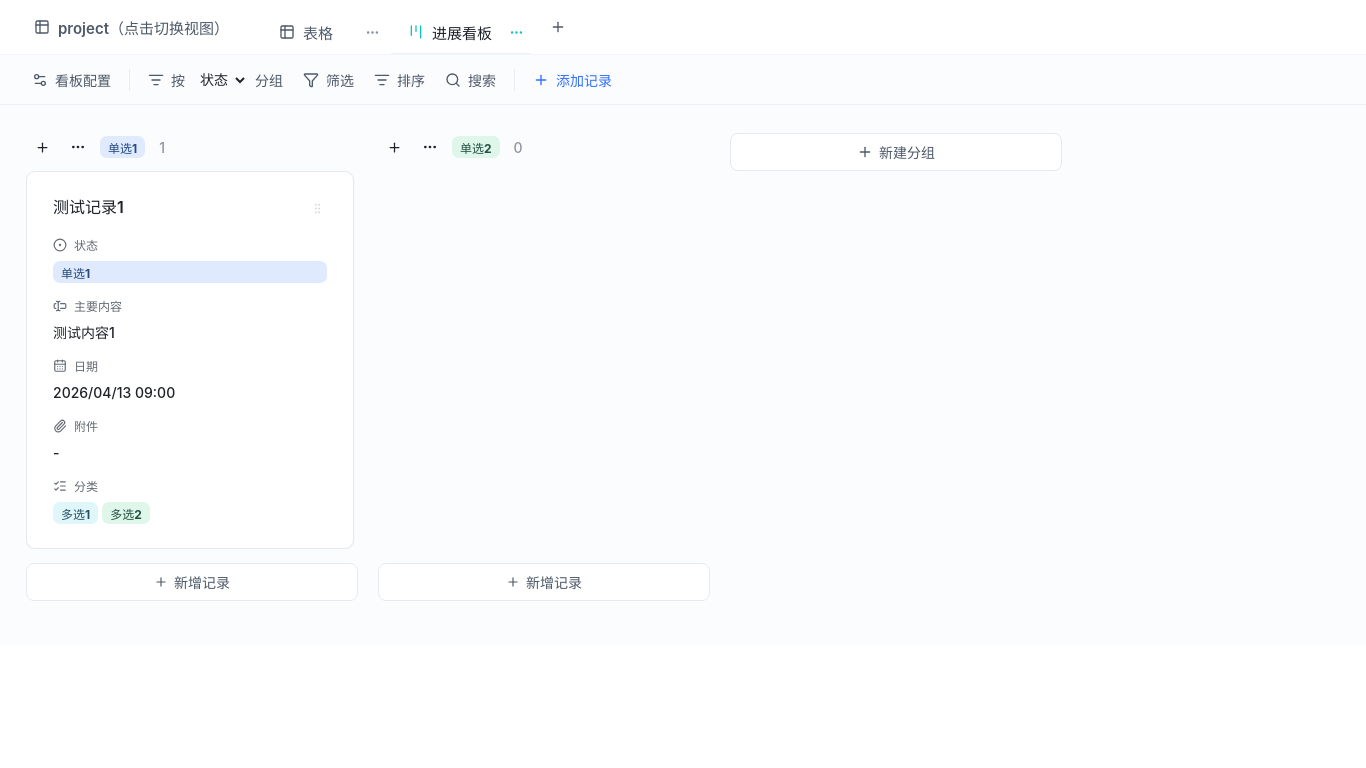
Test: 视图页签支持重命名和删除多余看板
Click the button named "新增看板" at (558, 27), box [539,7,577,47]
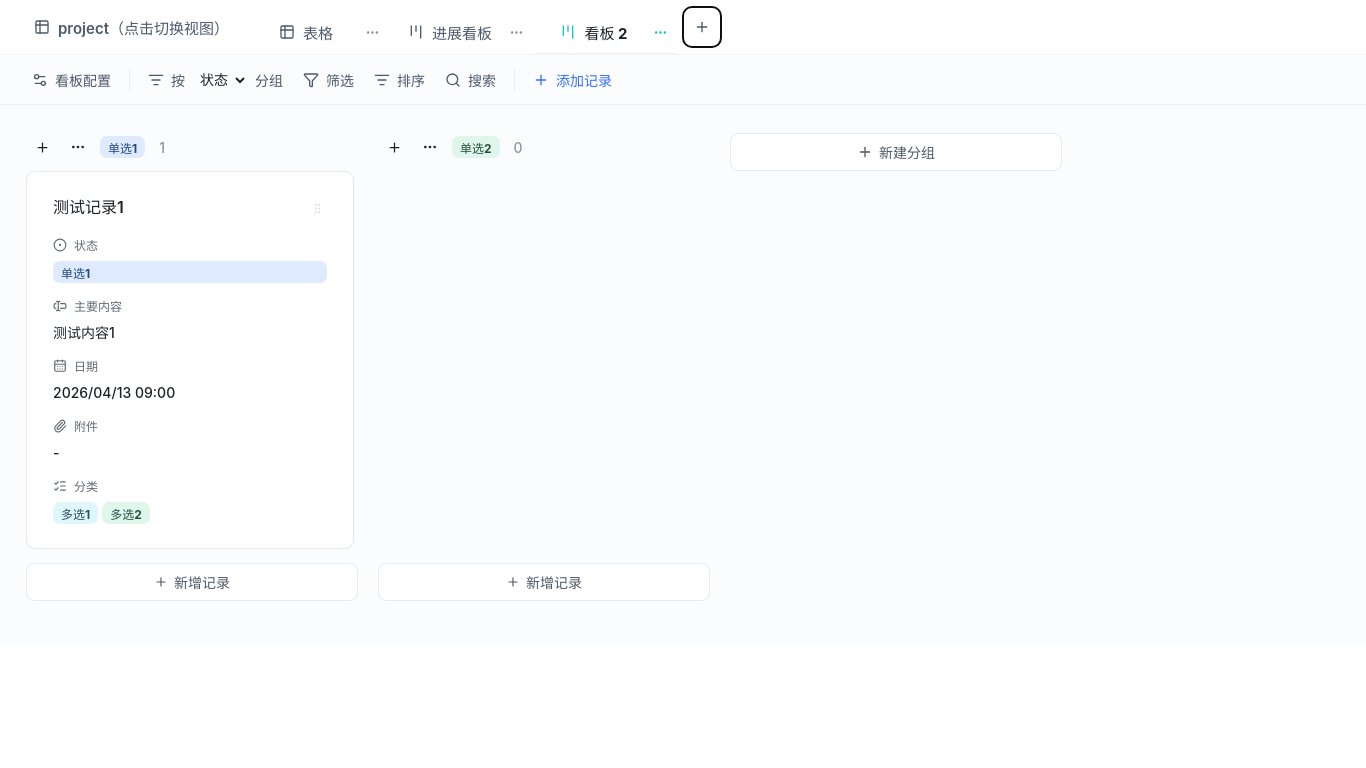
Click the button named "看板 2 视图操作" at (661, 32), box [647,10,675,54]
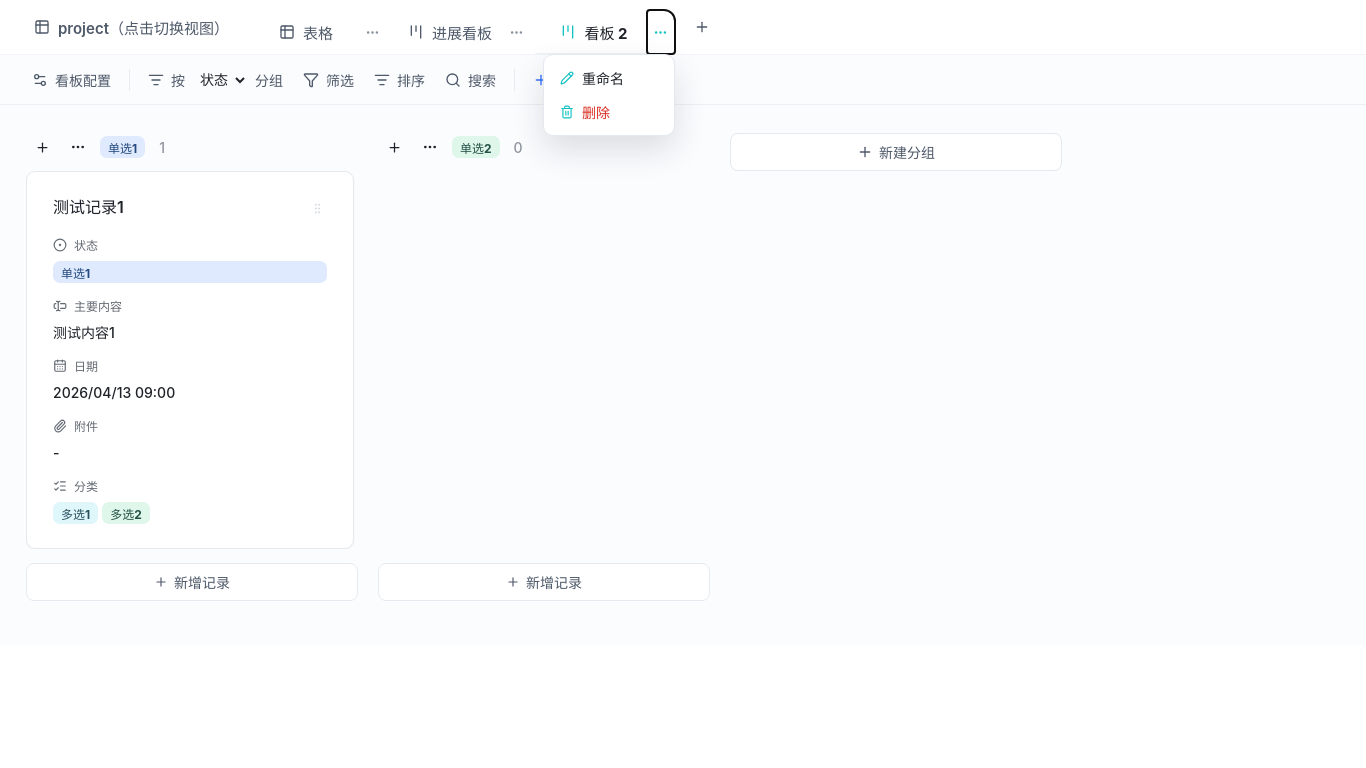
Click the menu item "重命名" at (609, 78), box [550,61,668,95]
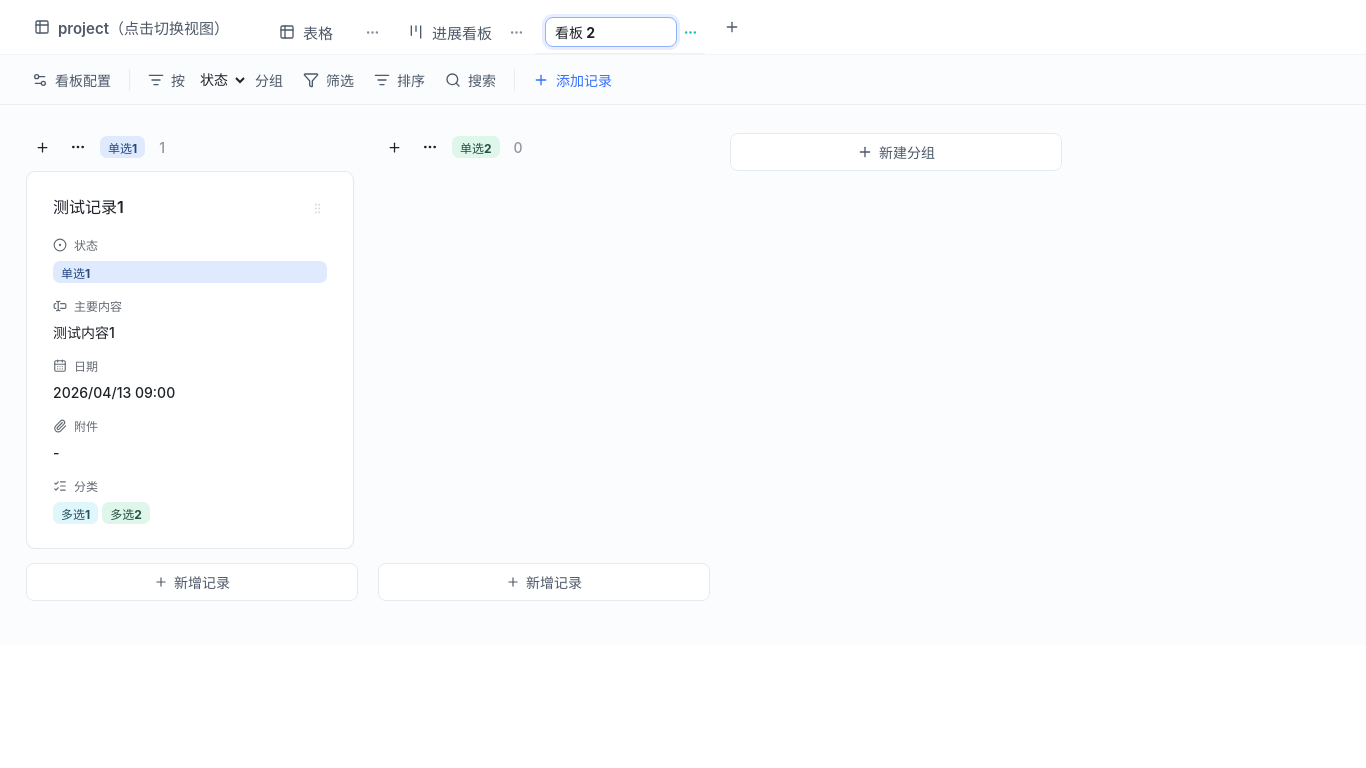
Replace the text in the field named "重命名视图 看板 2" with "测试视图1" at (611, 32), box [545,17,677,47]
Press Enter
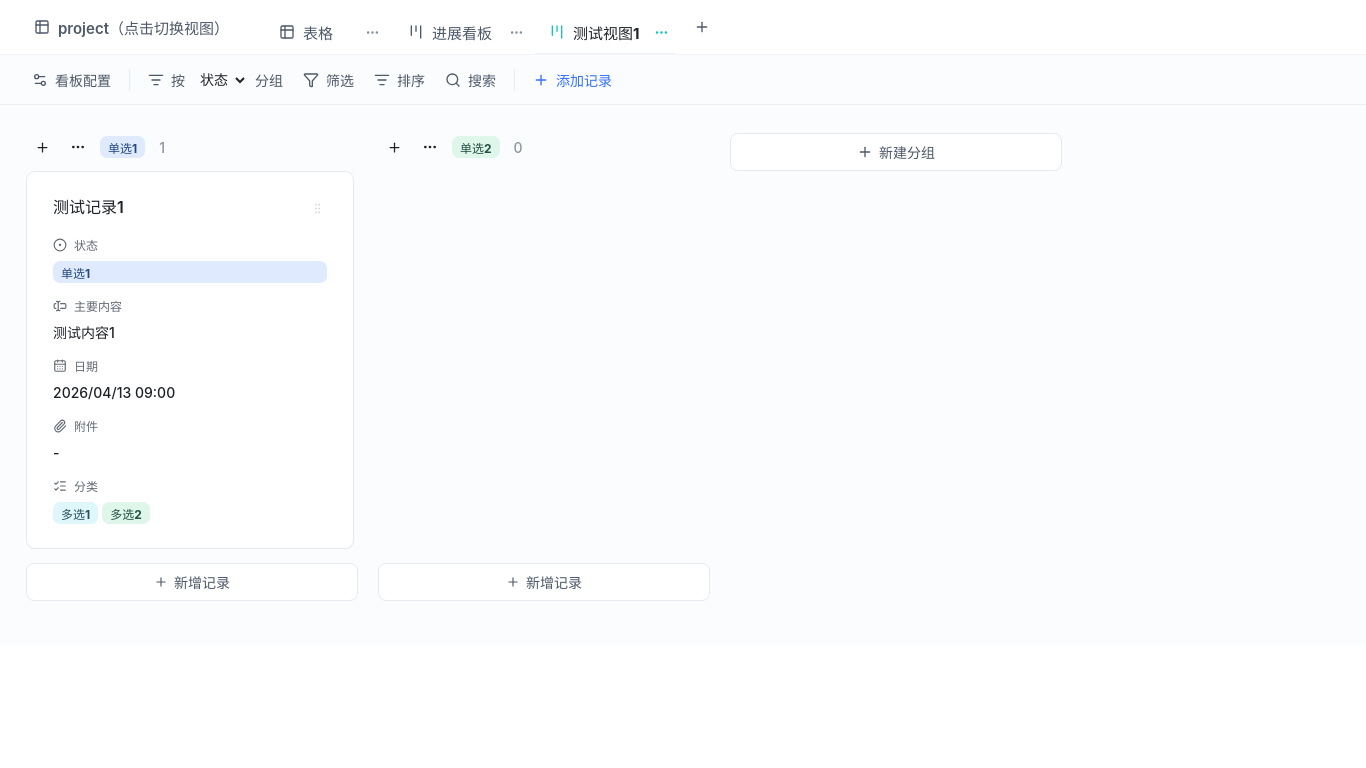
Click the button named "测试视图1 视图操作" at (661, 32), box [647,10,675,54]
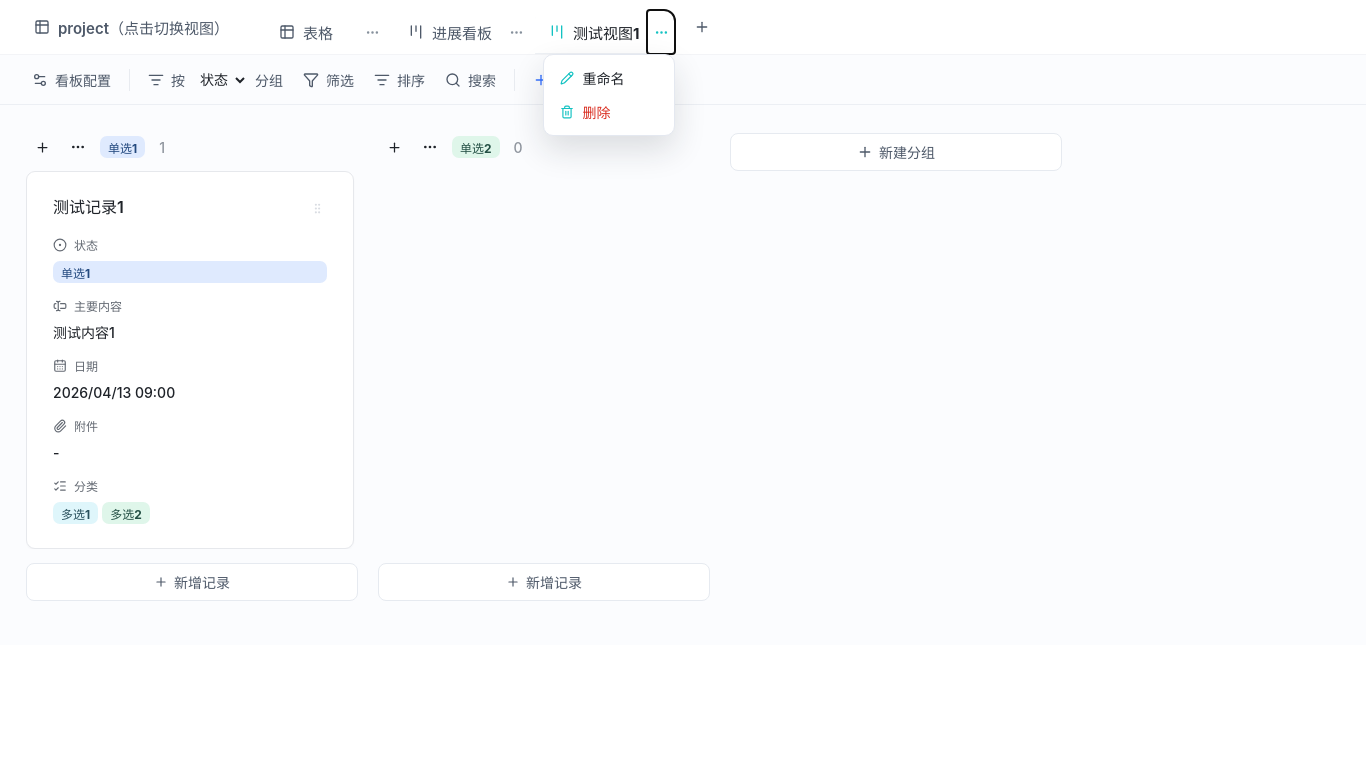
Click the menu item "删除" at (609, 112), box [550,95,668,129]
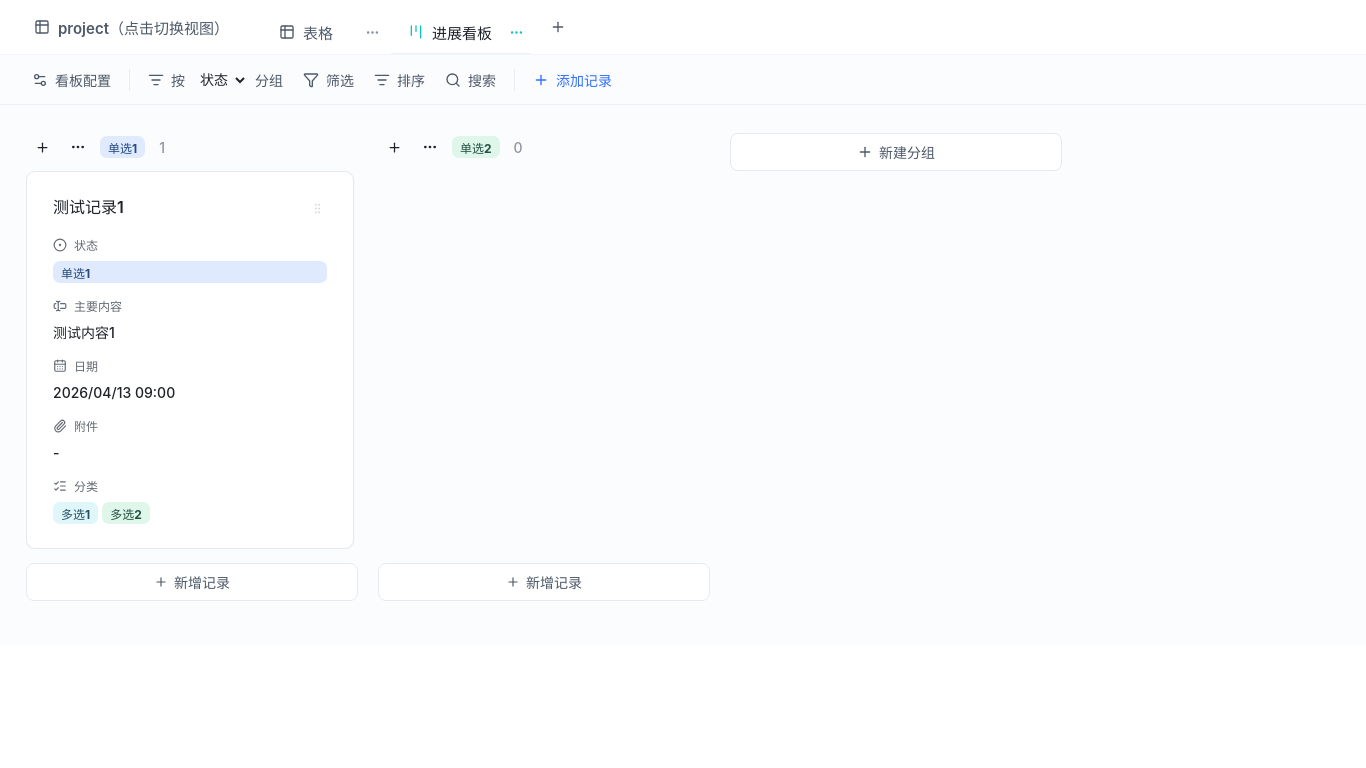
Check: the tab "测试视图1" is gone
